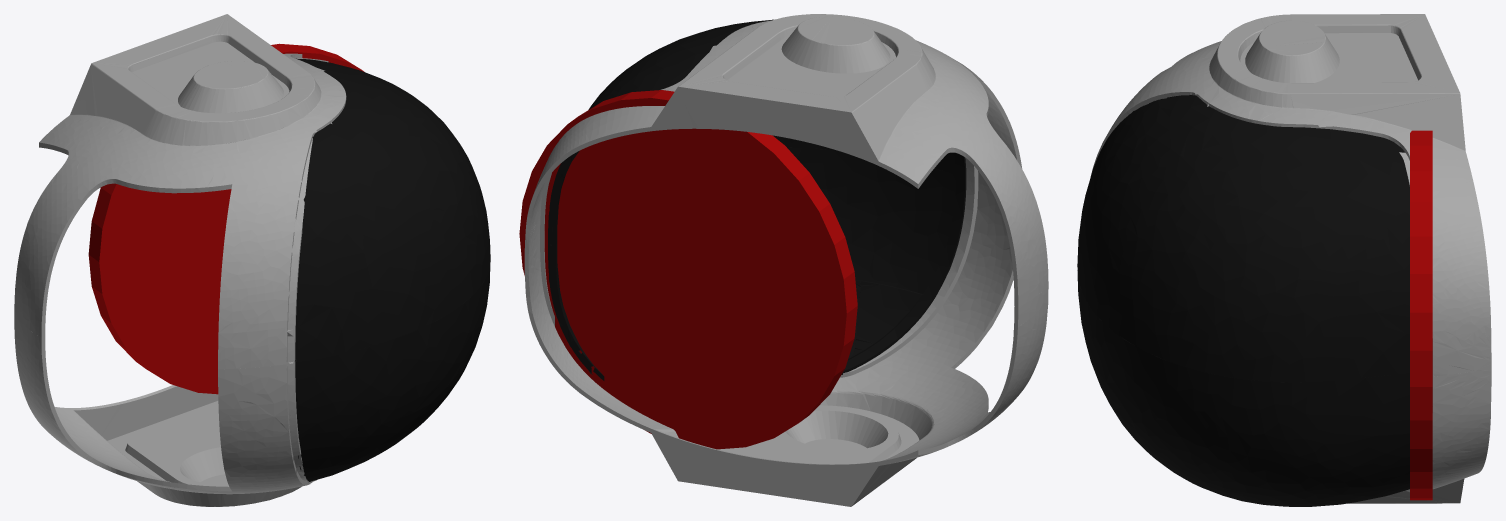
File: Helmet_roboCop_rev2.obj
The picture shows the model from 3 angles, left to right: view 1: azimuth 30°, elevation 25°; view 2: azimuth 150°, elevation 25°; view 3: azimuth 270°, elevation 25°; orthographic projection. The views are drawn at different scales.
Visible parts, largest first — view 1: Cylinder.001_Cylinder.001_None.001, Cylinder.001_Cylinder.001_None.004, Cylinder.001_Cylinder.001_Material.002; view 2: Cylinder.001_Cylinder.001_None.001, Cylinder.001_Cylinder.001_Material.002, Cylinder.001_Cylinder.001_None.004; view 3: Cylinder.001_Cylinder.001_None.004, Cylinder.001_Cylinder.001_None.001, Cylinder.001_Cylinder.001_Material.002.
Boxes of the visible parts, bbox=[...] form: Cylinder.001_Cylinder.001_None.001: bbox=[14, 14, 346, 506]; Cylinder.001_Cylinder.001_None.004: bbox=[295, 58, 490, 481]; Cylinder.001_Cylinder.001_Material.002: bbox=[88, 43, 364, 394]; Cylinder.001_Cylinder.001_None.001: bbox=[524, 14, 1048, 506]; Cylinder.001_Cylinder.001_Material.002: bbox=[519, 90, 857, 449]; Cylinder.001_Cylinder.001_None.004: bbox=[548, 19, 966, 380]; Cylinder.001_Cylinder.001_None.004: bbox=[1077, 94, 1409, 506]; Cylinder.001_Cylinder.001_None.001: bbox=[1090, 14, 1491, 503]; Cylinder.001_Cylinder.001_Material.002: bbox=[1410, 130, 1432, 500].
Bounding box in the file's own units: 0.2188 × 0.1963 × 0.1665.
